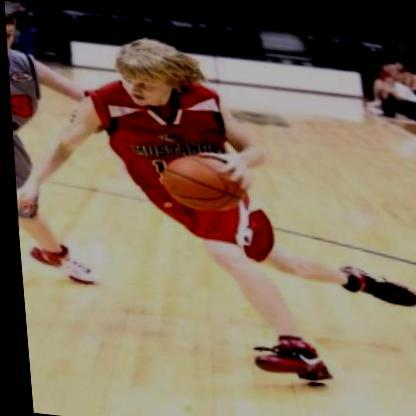basketball: (161, 146, 243, 214)
